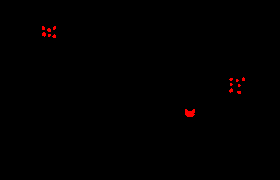Target: (185, 109, 195, 117), (42, 32, 46, 37), (229, 88, 233, 93), (47, 28, 51, 32), (52, 34, 56, 38), (42, 26, 45, 30), (53, 26, 56, 30), (242, 77, 245, 81), (229, 78, 233, 81), (237, 91, 241, 94), (48, 34, 51, 37), (236, 79, 239, 82), (230, 83, 233, 86), (238, 84, 241, 87)
